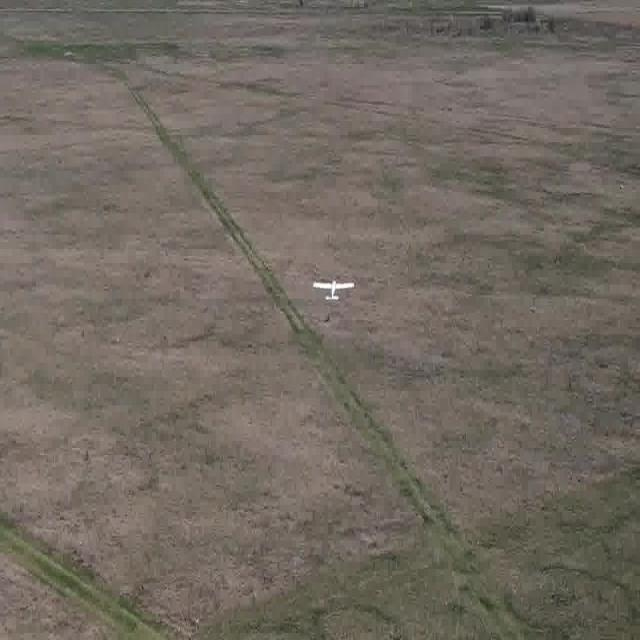iha: (309, 271, 357, 312)
